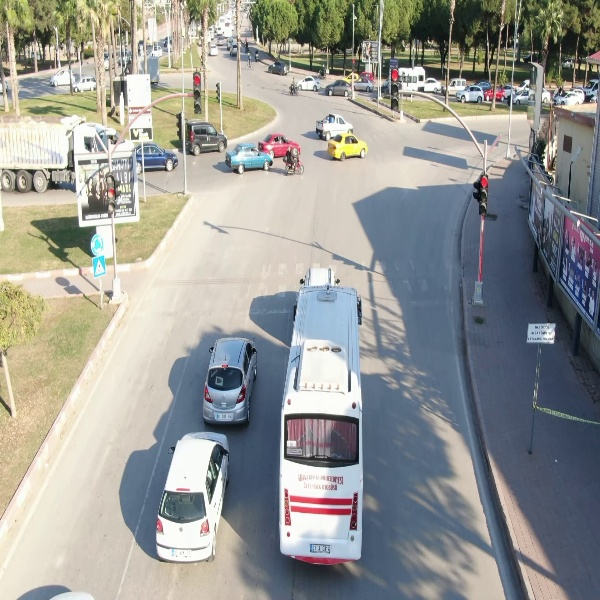car: (153, 427, 232, 565), (201, 335, 262, 428), (185, 120, 229, 157), (224, 142, 273, 174), (326, 132, 370, 161), (455, 83, 488, 106), (323, 78, 354, 97), (72, 73, 98, 94), (550, 90, 584, 106), (266, 59, 291, 78)
